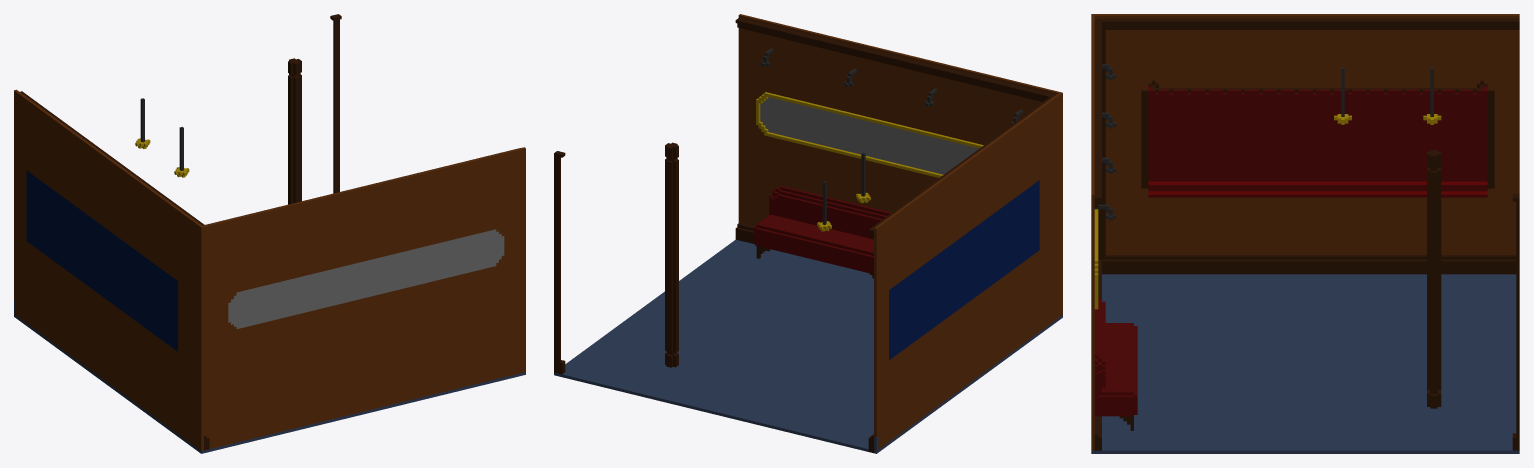
Rendered from Level1-20-14-0.obj.
The picture shows the model from 3 angles, left to right: view 1: azimuth 30°, elevation 25°; view 2: azimuth 150°, elevation 25°; view 3: azimuth 270°, elevation 25°; orthographic projection. The views are drawn at different scales.
Parts seen in each view (by area): view 1: Level1-20-14-0; view 2: Level1-20-14-0; view 3: Level1-20-14-0.
Part boxes in pixels (x1,y1,x2,y2): Level1-20-14-0: [14, 14, 525, 453]; Level1-20-14-0: [554, 14, 1062, 453]; Level1-20-14-0: [1091, 14, 1519, 453].
Bounding box in the file's own units: 120 × 80 × 120.
1 material, 1 textured.
